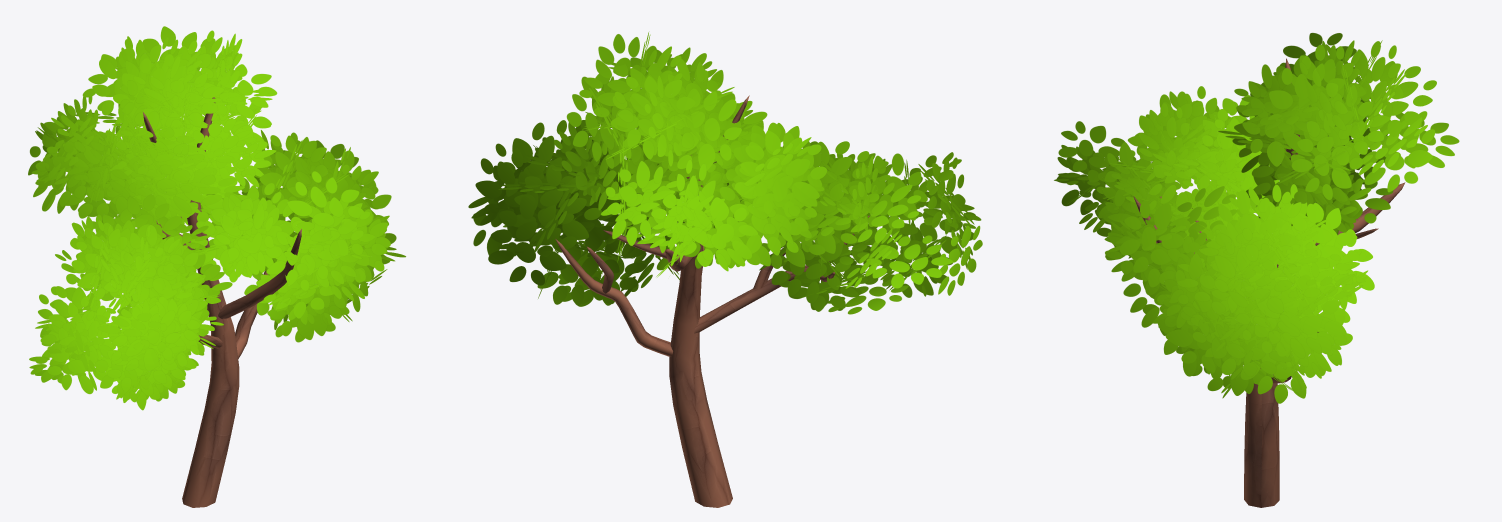
File: tree5.glb
3 renders of one model, left to right at view 1: azimuth 30°, elevation 25°; view 2: azimuth 150°, elevation 25°; view 3: azimuth 270°, elevation 25°, orthographic. The views are drawn at different scales.
Parts seen in each view (by area): view 1: NormalTree_5; view 2: NormalTree_5; view 3: NormalTree_5.
Part boxes in pixels (x1,y1,x2,y2): NormalTree_5: (28, 26, 405, 507); NormalTree_5: (468, 32, 982, 507); NormalTree_5: (1054, 33, 1459, 507).
Bounding box in the file's own units: 3.1 × 2.98 × 2.57.
2 materials, 2 textured.
